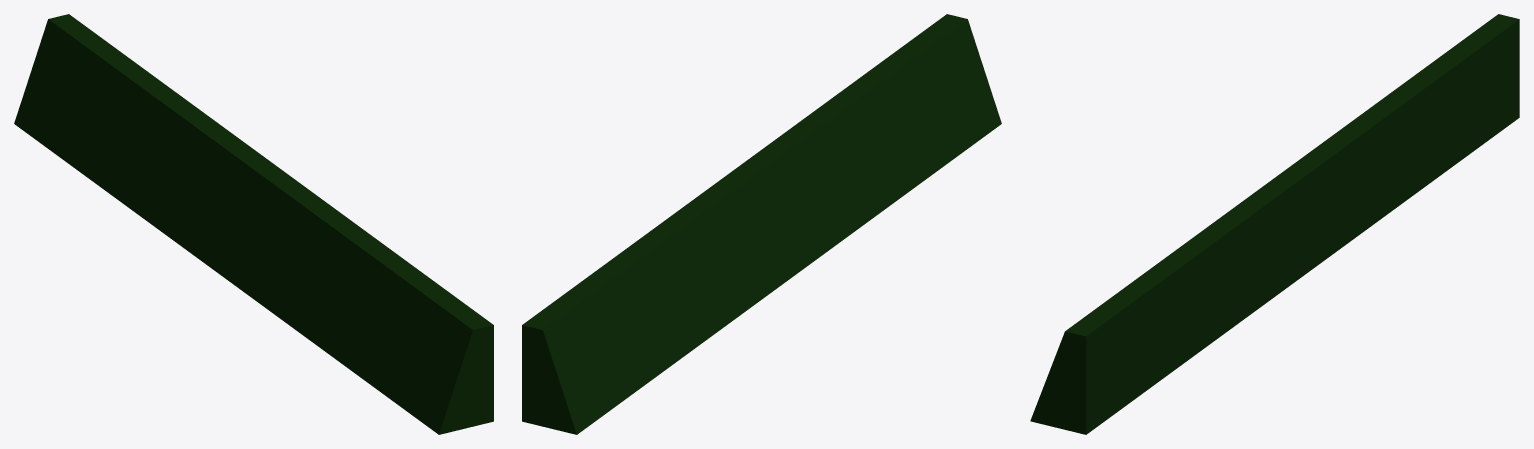
Rendered from wall-base1.fbx.
3 views of the same model, side by side, from view 1: azimuth 30°, elevation 25°; view 2: azimuth 150°, elevation 25°; view 3: azimuth 330°, elevation 25° (orthographic). The views are drawn at different scales.
Parts seen in each view (by area): view 1: wall-base1; view 2: wall-base1; view 3: wall-base1.
Boxes of the visible parts, left/top/right/bottom form: wall-base1: left=14, top=14, right=493, bottom=434; wall-base1: left=522, top=14, right=1001, bottom=434; wall-base1: left=1030, top=14, right=1519, bottom=434.
Bounding box in the file's own units: 1.11 × 1.86 × 14.87.
